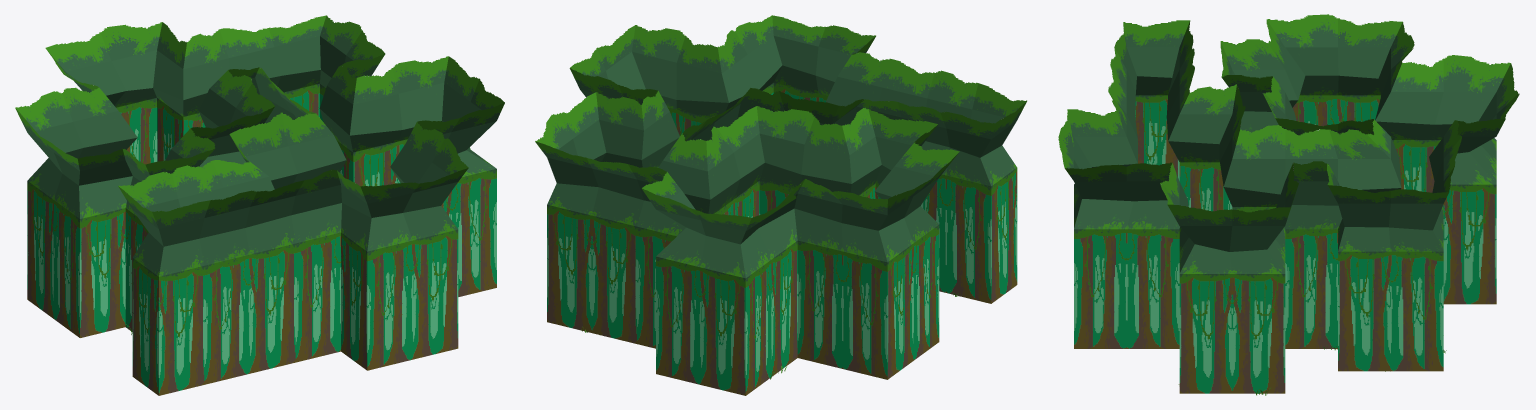
File: cent_forest.glb
3 views of the same model, side by side, from view 1: azimuth 30°, elevation 25°; view 2: azimuth 150°, elevation 25°; view 3: azimuth 270°, elevation 25° (orthographic).
Parts seen in each view (by area): view 1: лес; view 2: лес; view 3: лес.
Part boxes in pixels (<box>): лес: <box>15,15,504,395</box>; лес: <box>535,15,1026,395</box>; лес: <box>1058,14,1519,393</box>.
Bounding box in the file's own units: 17.3 × 8.56 × 17.59.
9 materials, 3 textured.
